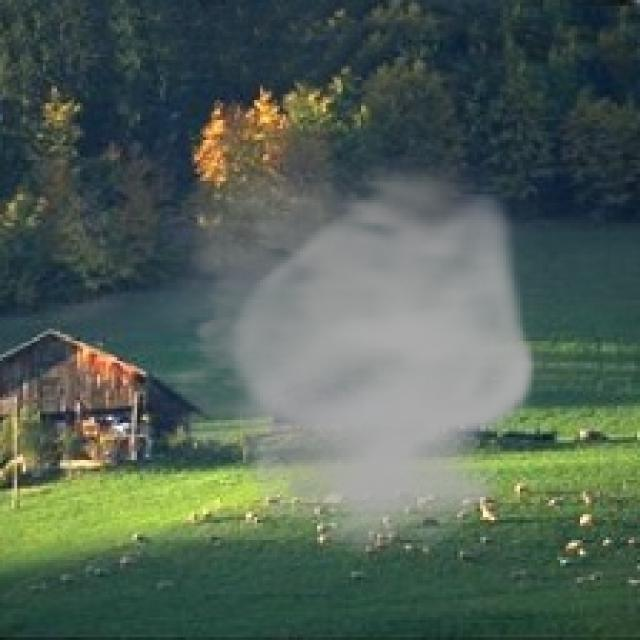smoke: (120, 140, 543, 554)
